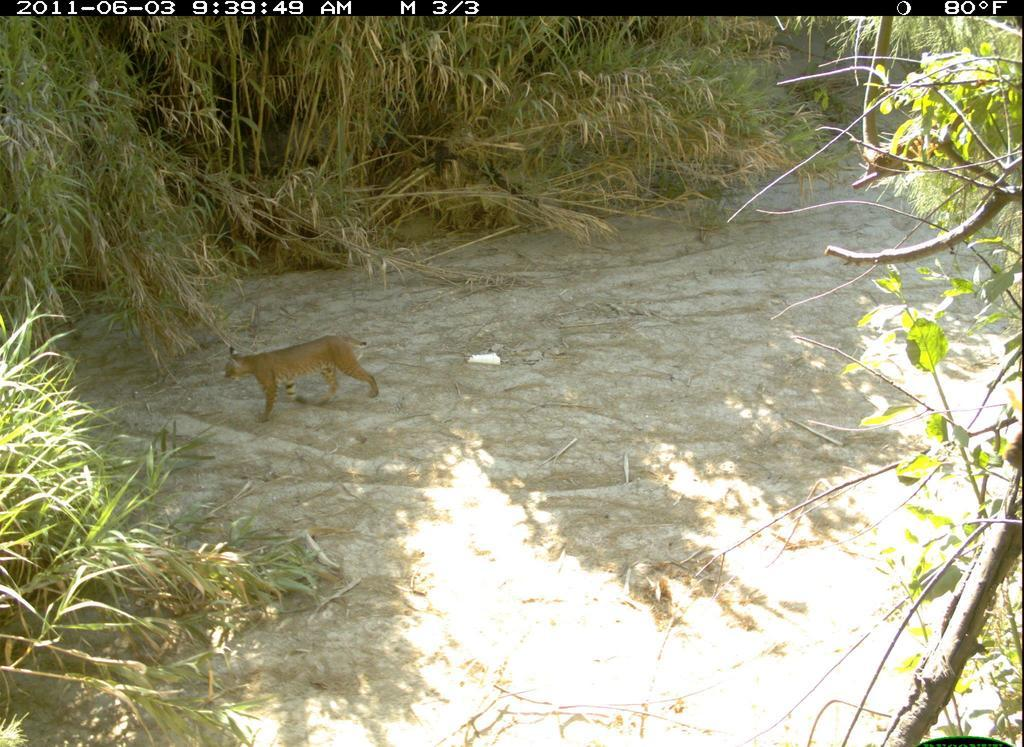bobcat: (218, 332, 382, 422)
